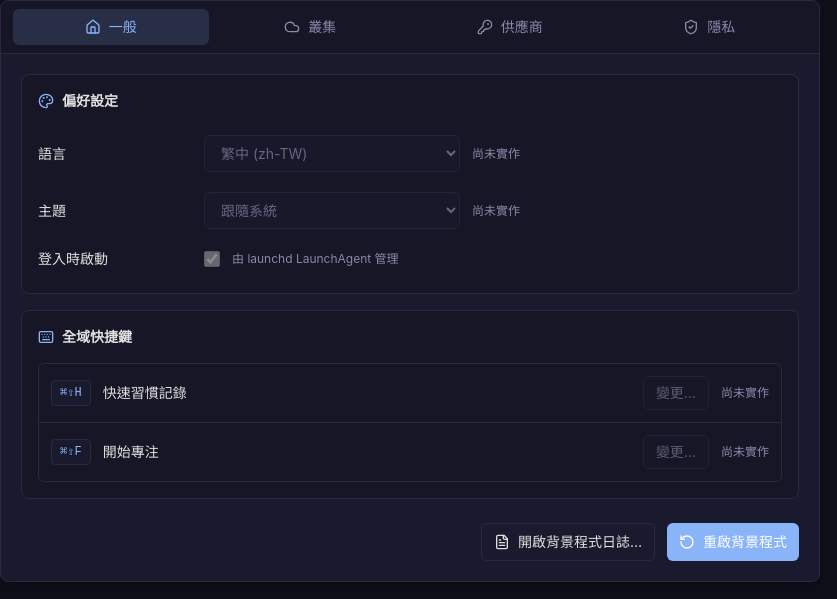
SettingsWindow screen › switches to the Cluster tab with an edge-case peer (null caps, no last-seen) without crashing
Click the tab "叢集". click: (310, 27)
box: [212,9,408,45]
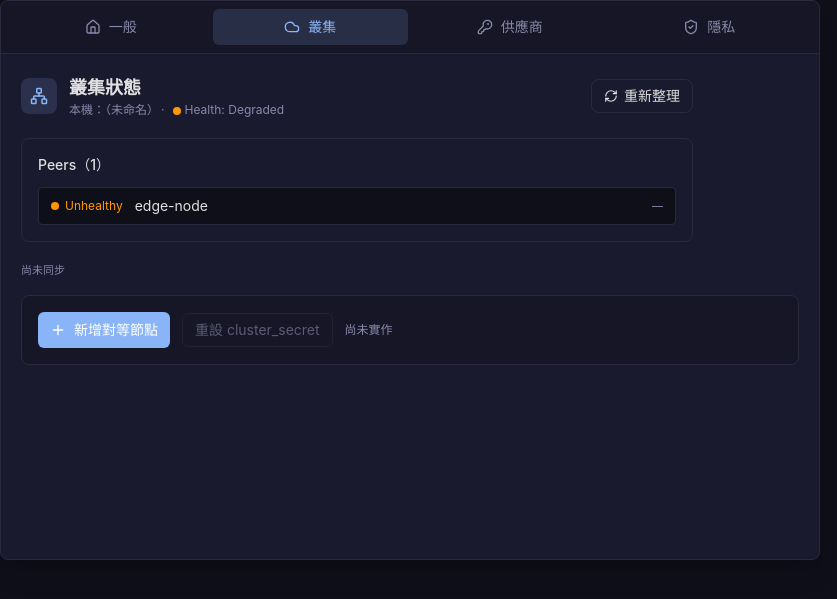
Now the element with test id "cluster-status-dashboard" is shown, box [21,74,693,278]
Now the text "edge-node" is shown, box [135,197,208,214]
